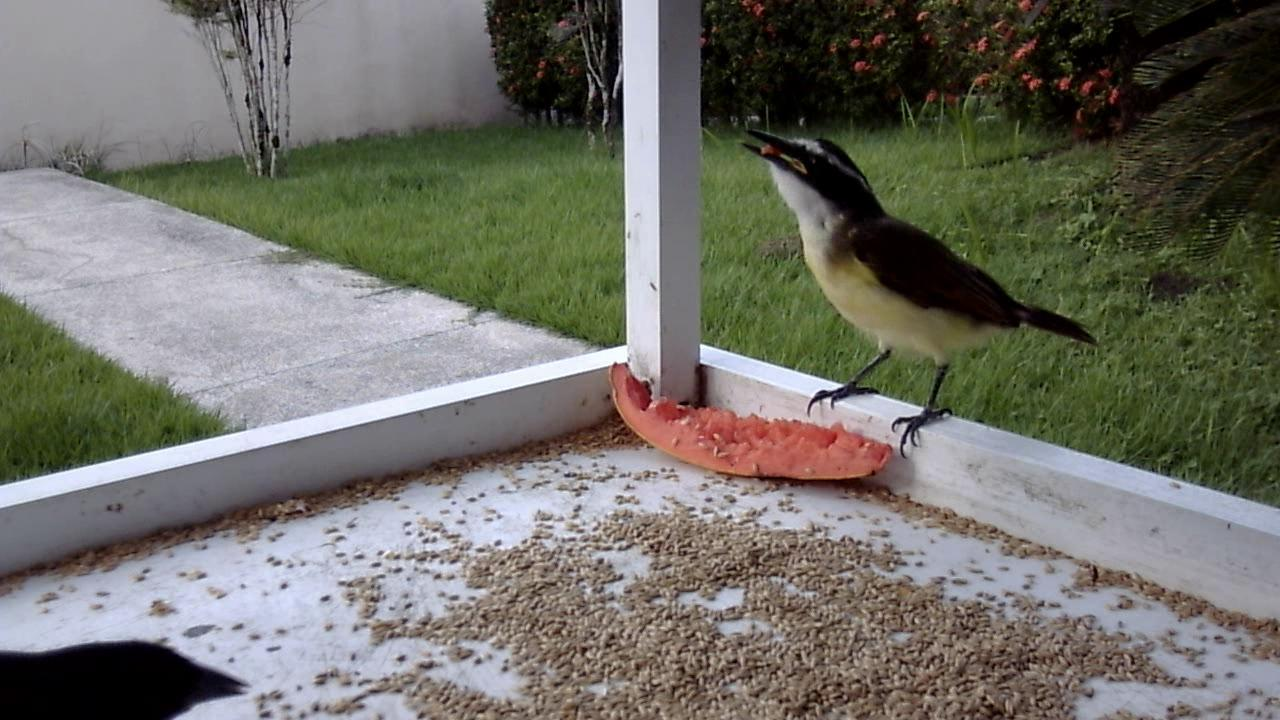bem_te_vi: (735, 118, 1101, 467)
